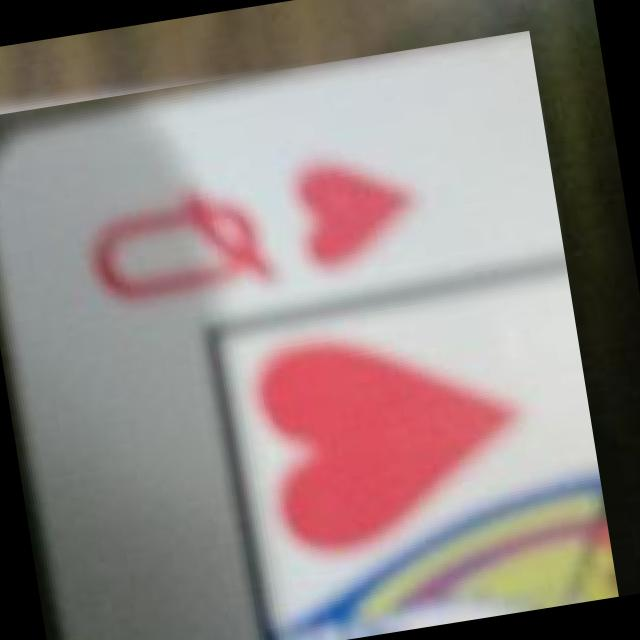Queen of hearts: (0, 31, 619, 640)
